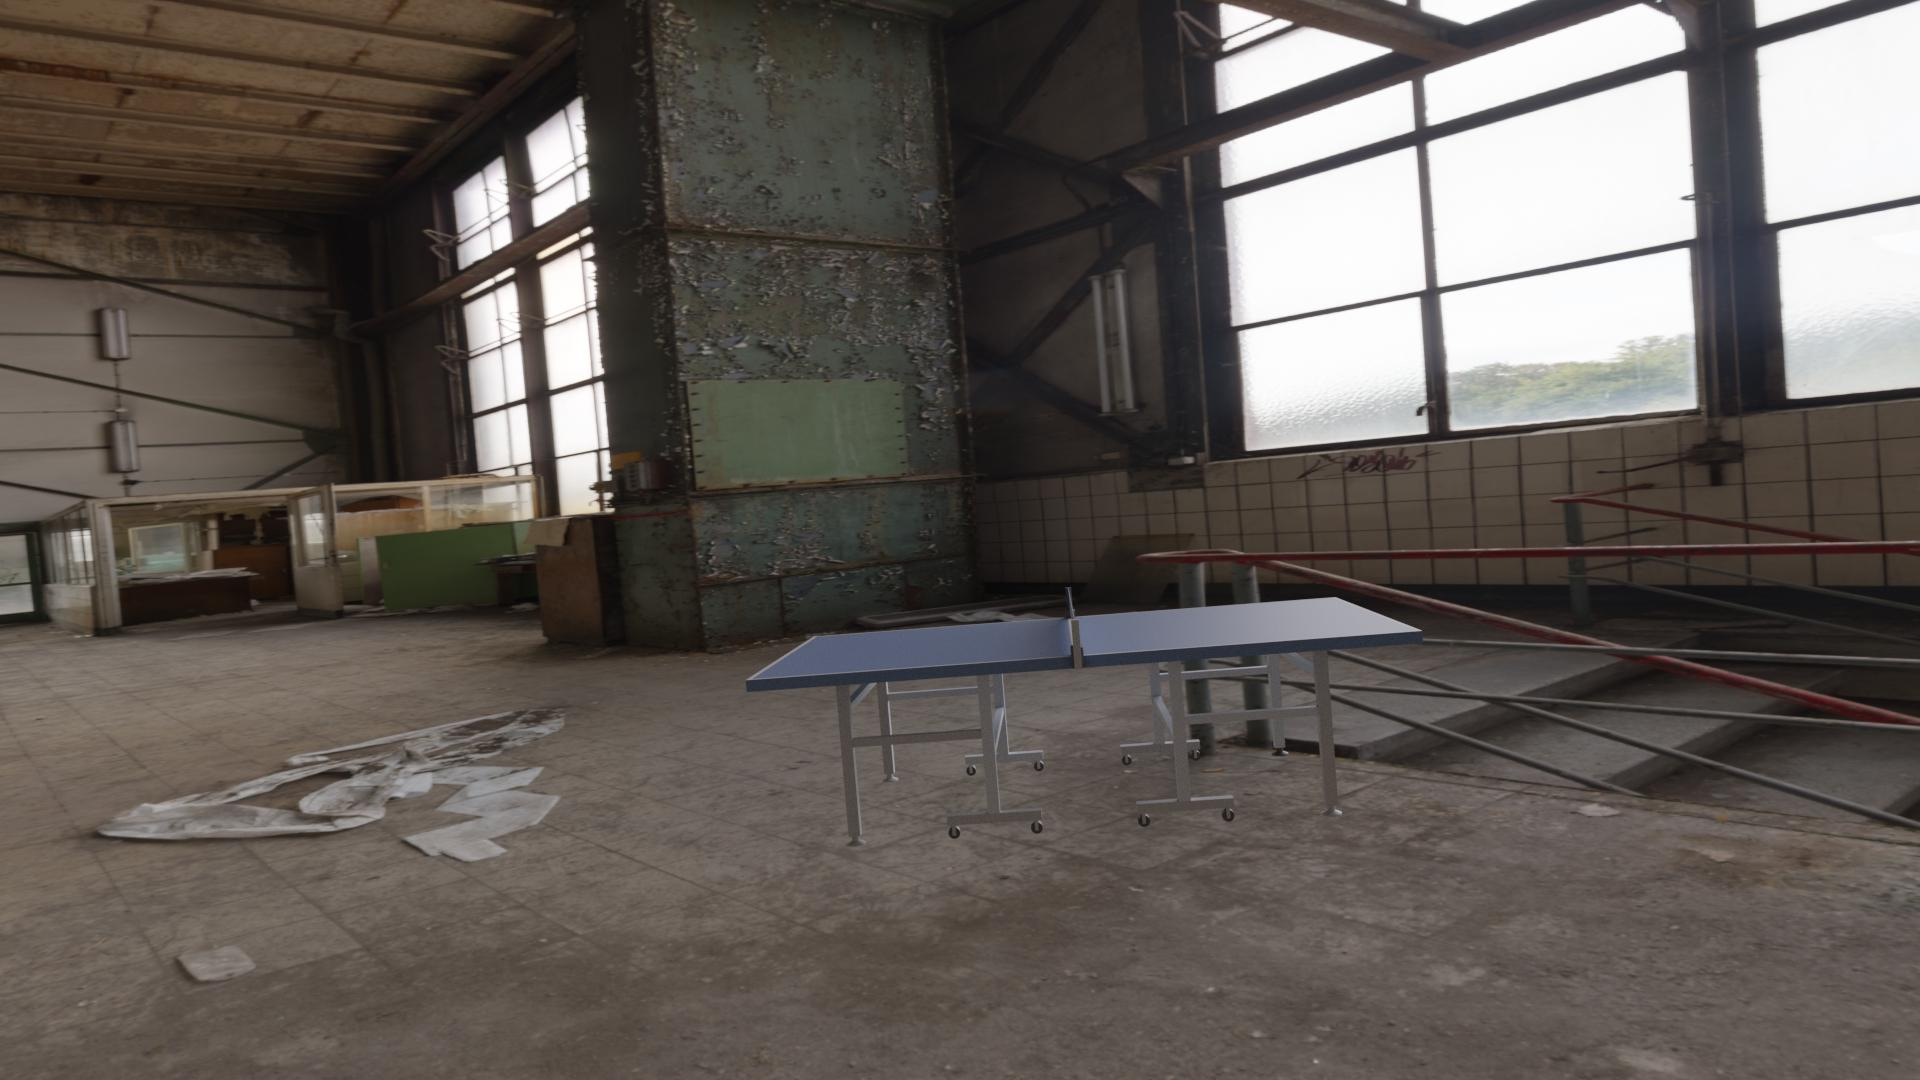table: (752, 597, 1415, 679)
